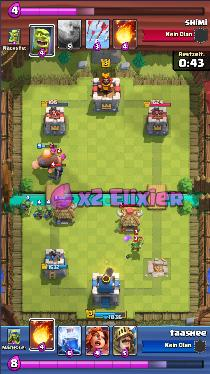EDoctor: (31, 148, 62, 173)
EEVRoyalG: (48, 200, 79, 226)
EKingTower: (21, 200, 34, 215), (33, 206, 44, 219), (42, 206, 53, 219)
EMiner: (58, 153, 68, 162), (48, 147, 56, 156)
ETesla: (115, 208, 143, 233)
OBat: (48, 165, 64, 180)
OEVWizard: (130, 237, 144, 252)
